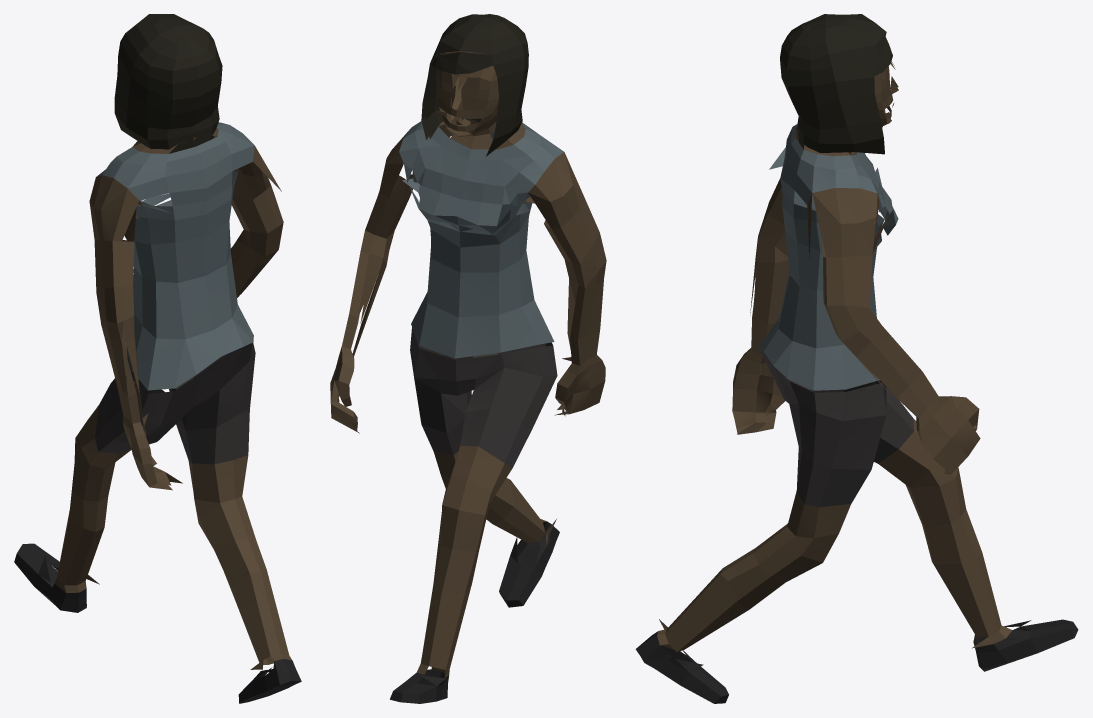
File: person_5_w1.fbx
The picture shows the model from 3 angles, left to right: view 1: azimuth 30°, elevation 25°; view 2: azimuth 150°, elevation 25°; view 3: azimuth 270°, elevation 25°; orthographic projection. The views are drawn at different scales.
Parts seen in each view (by area): view 1: BaseHuman.000; view 2: BaseHuman.000; view 3: BaseHuman.000.
Boxes of the visible parts, bbox=[...] form: BaseHuman.000: bbox=[14, 14, 301, 703]; BaseHuman.000: bbox=[330, 14, 606, 703]; BaseHuman.000: bbox=[635, 14, 1078, 703].
Size of the model in its own units: 0.3281 by 1 by 0.5982.
